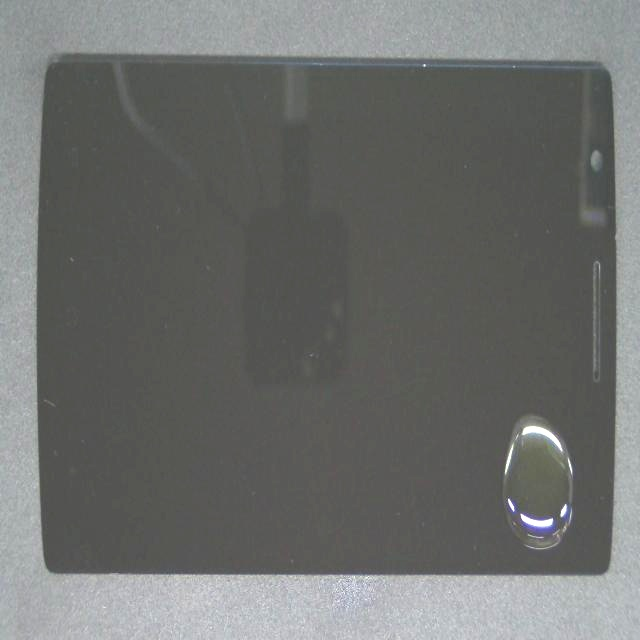oil: (302, 210, 640, 627)
